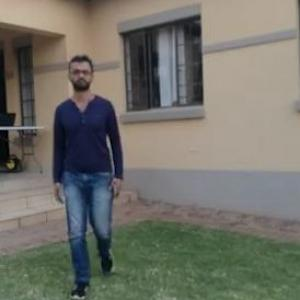follow: (52, 45, 129, 299)
